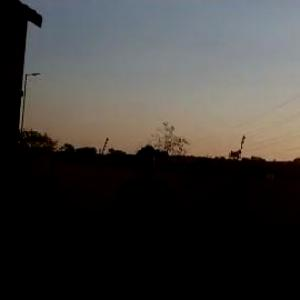follow: (100, 139, 180, 299)
